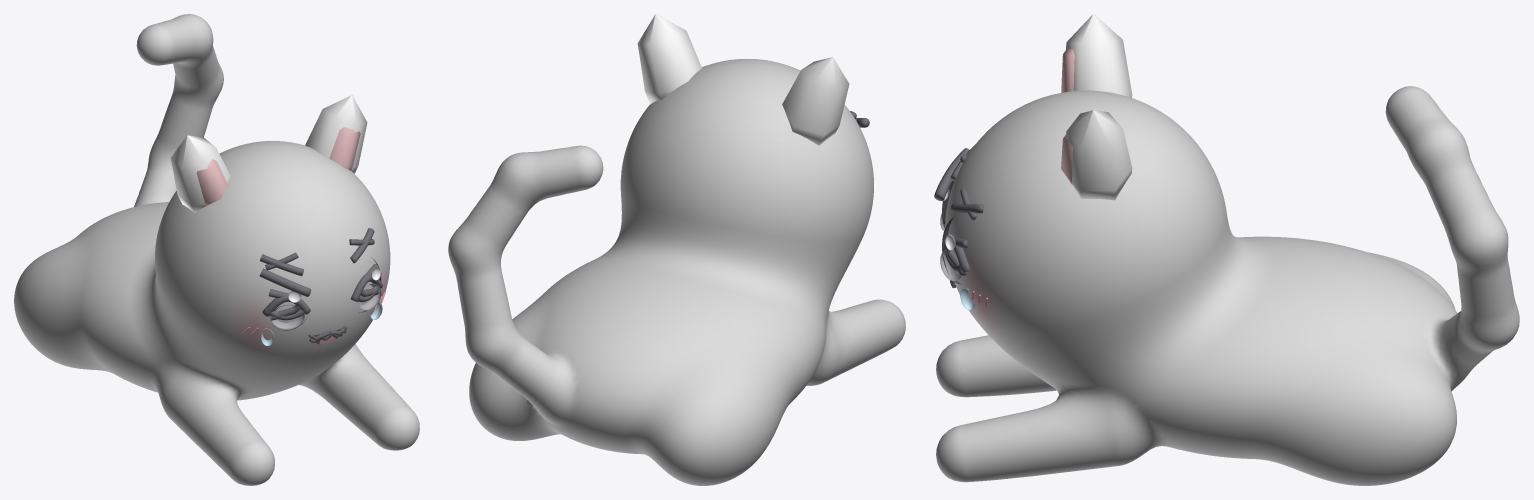
File: a_cat_slime.glb
3 views of the same model, side by side, from view 1: azimuth 30°, elevation 25°; view 2: azimuth 150°, elevation 25°; view 3: azimuth 270°, elevation 25° (orthographic). The views are drawn at different scales.
Parts seen in each view (by area): view 1: BodyMesh, face_eyes_normal, face_eyes_happy, face_brows_angry, face_eyes_strain, face_brow_smug; view 2: BodyMesh; view 3: BodyMesh, face_eyes_normal.
Boxes of the visible parts, x1,y1,x2,y2 form: BodyMesh: (14, 14, 419, 485); face_eyes_normal: (271, 258, 381, 330); face_eyes_happy: (262, 275, 382, 316); face_brows_angry: (260, 228, 374, 276); face_eyes_strain: (268, 263, 378, 320); face_brow_smug: (259, 268, 311, 296); BodyMesh: (448, 14, 905, 485); BodyMesh: (936, 14, 1519, 485); face_eyes_normal: (940, 181, 961, 284).
Size of the model in its own units: 1.56 by 1.8 by 2.56.
